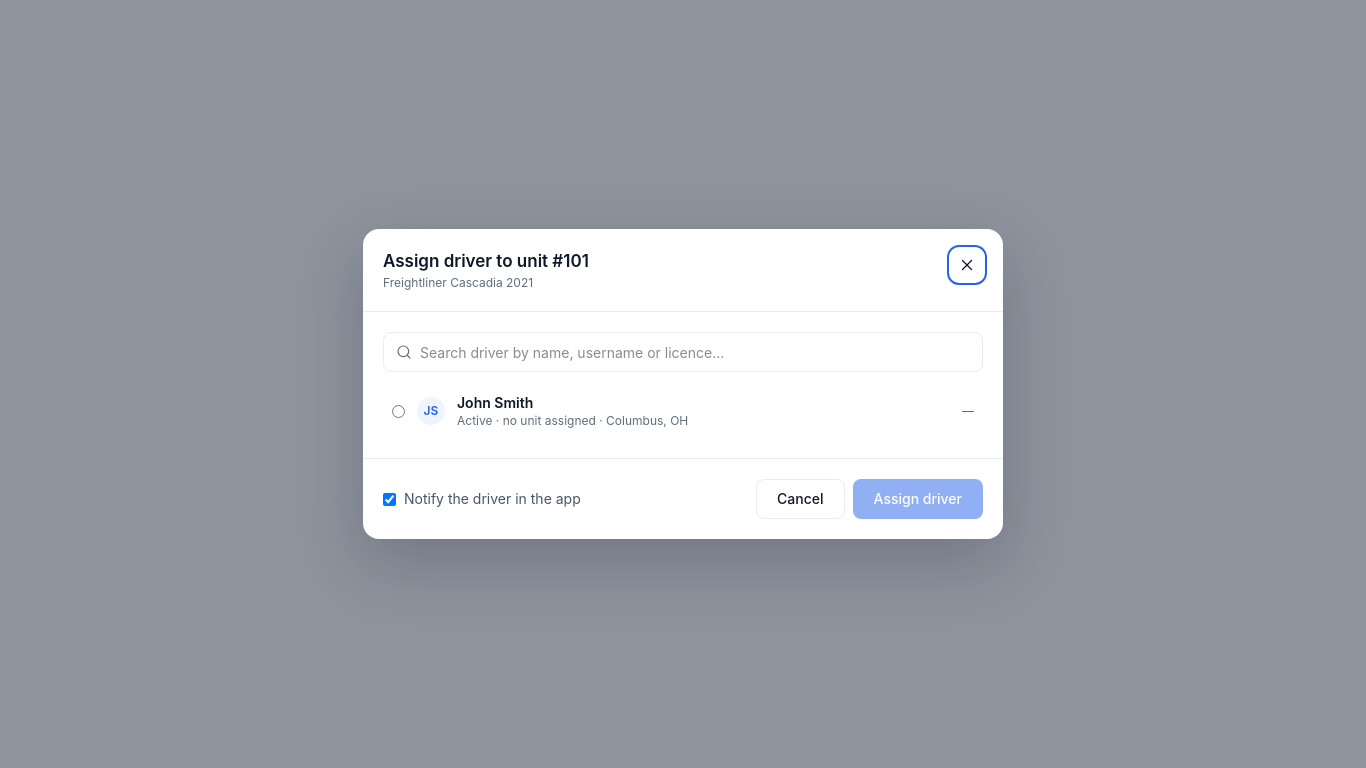
AssignDriverModal — refusals › 409 on an inactive unit reads the server sentence, not "That value is already in use."
Click the text "John Smith" at [495, 402], box 457,394 -> 533,411
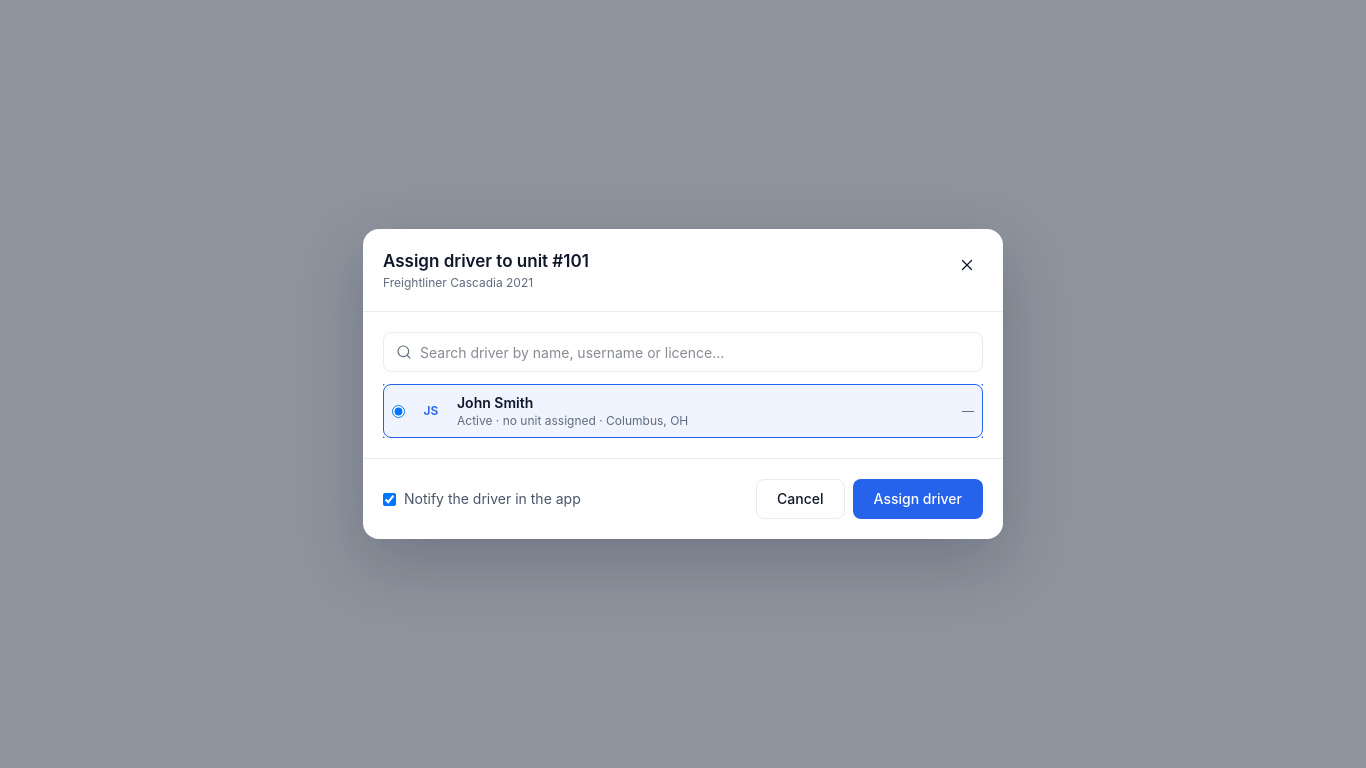
Click the button "Assign driver" at [918, 499], box 853,479 -> 983,519
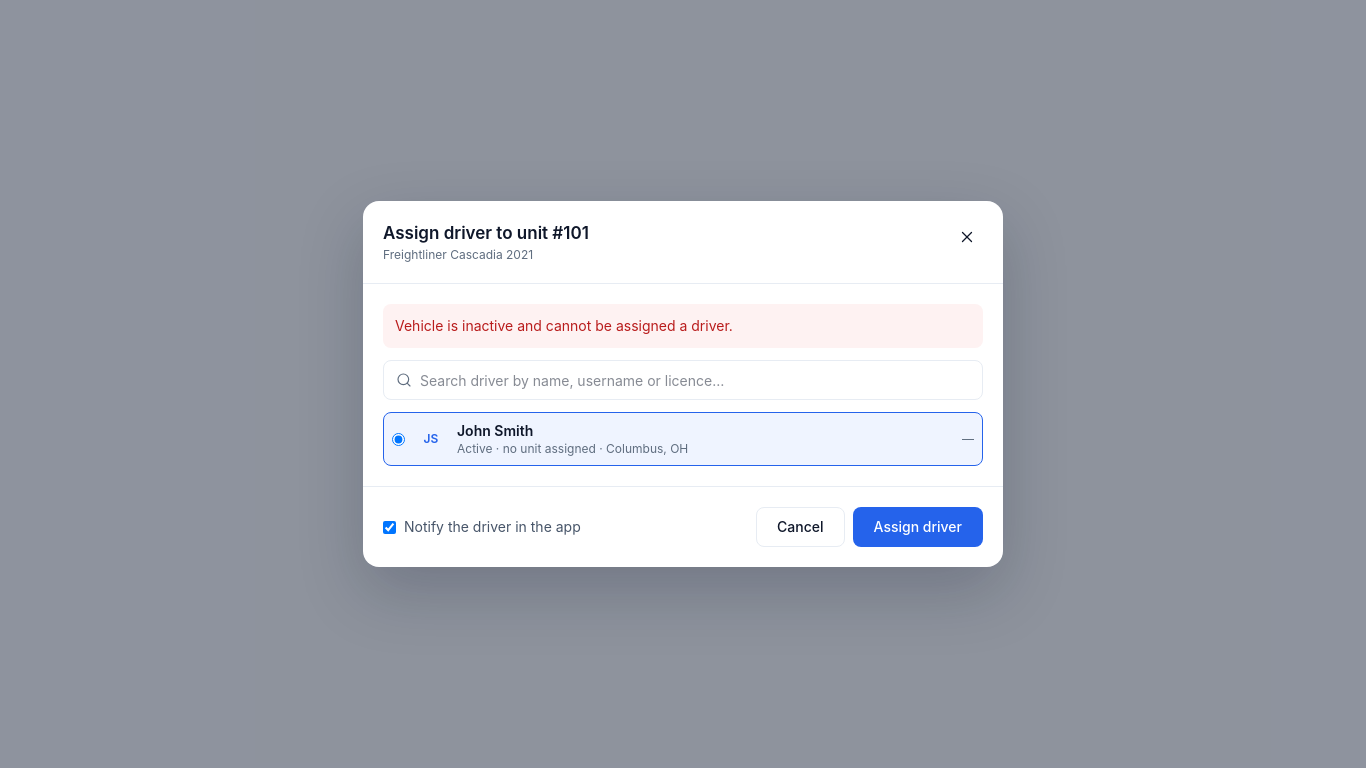
Check: the message reads "Vehicle is inactive and cannot be assigned a driver.", box 395,317 -> 733,334
